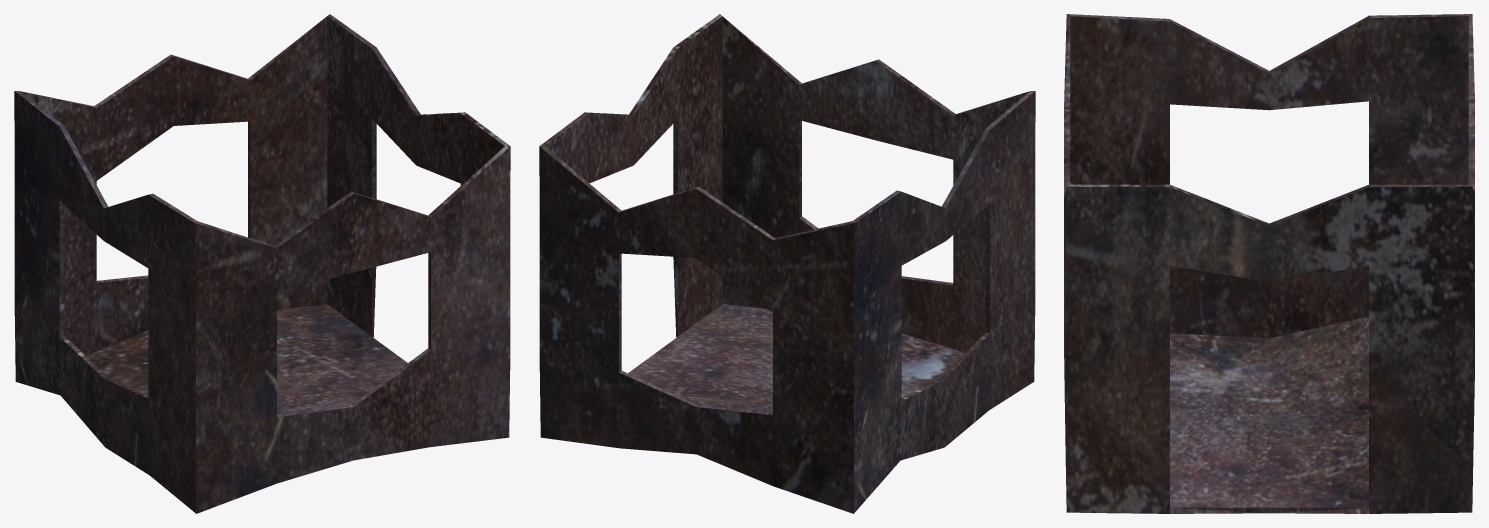
Rendered from building.dae.
3 views of the same model, side by side, from view 1: azimuth 30°, elevation 25°; view 2: azimuth 150°, elevation 25°; view 3: azimuth 270°, elevation 25° (orthographic). The views are drawn at different scales.
Parts seen in each view (by area): view 1: Cube_001; view 2: Cube_001; view 3: Cube_001.
Part boxes in pixels (<box>): Cube_001: <box>14,14,510,513</box>; Cube_001: <box>539,14,1035,513</box>; Cube_001: <box>1064,14,1474,513</box>.
Size of the model in its own units: 2.06 by 2.06 by 1.83.
1 material, 1 textured.
